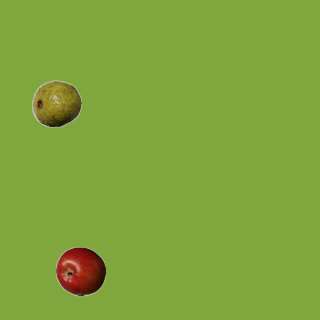Apple Braeburn: (55, 246, 105, 296)
Guava: (31, 78, 81, 128)
